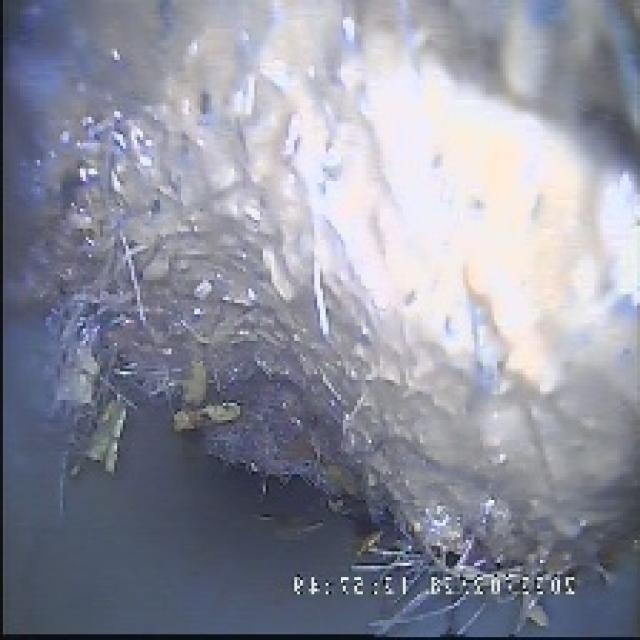sluge accumulation: (89, 131, 617, 566)
